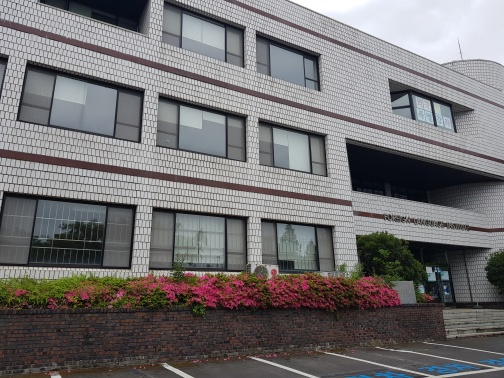Foreign Language Institute: (13, 6, 504, 340), (21, 60, 335, 182), (359, 191, 504, 333)
